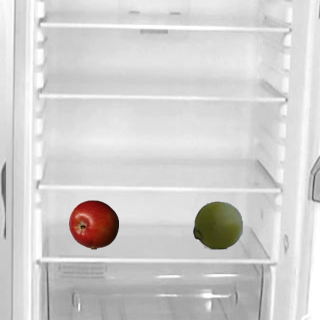Apple Braeburn: (68, 199, 118, 249)
Grape White 4: (192, 199, 242, 249)
